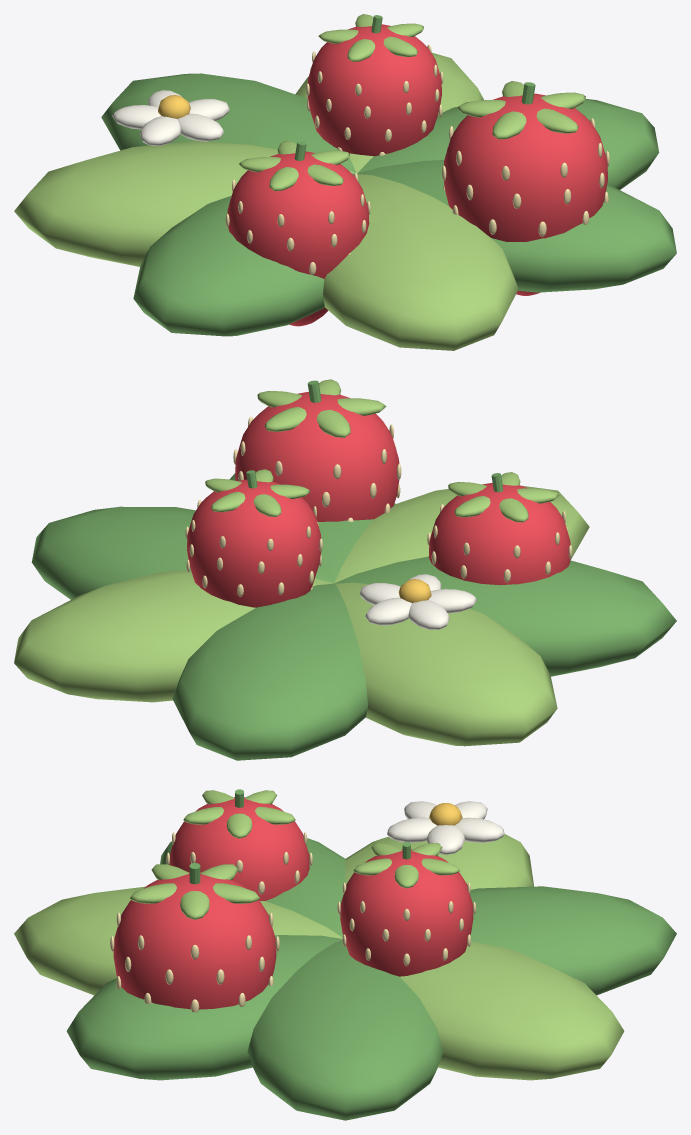
File: strawberry-bush.glb
3 renders of one model, top to bottom at view 1: azimuth 30°, elevation 25°; view 2: azimuth 150°, elevation 25°; view 3: azimuth 270°, elevation 25°, orthographic.
Visible parts, largest first — view 1: strawberry-bush; view 2: strawberry-bush; view 3: strawberry-bush.
Boxes of the visible parts, x1,y1,x2,y2 form: strawberry-bush: [14, 14, 676, 350]; strawberry-bush: [14, 379, 676, 760]; strawberry-bush: [14, 789, 676, 1120].
Bounding box in the file's own units: 1.16 × 0.4086 × 1.19.
